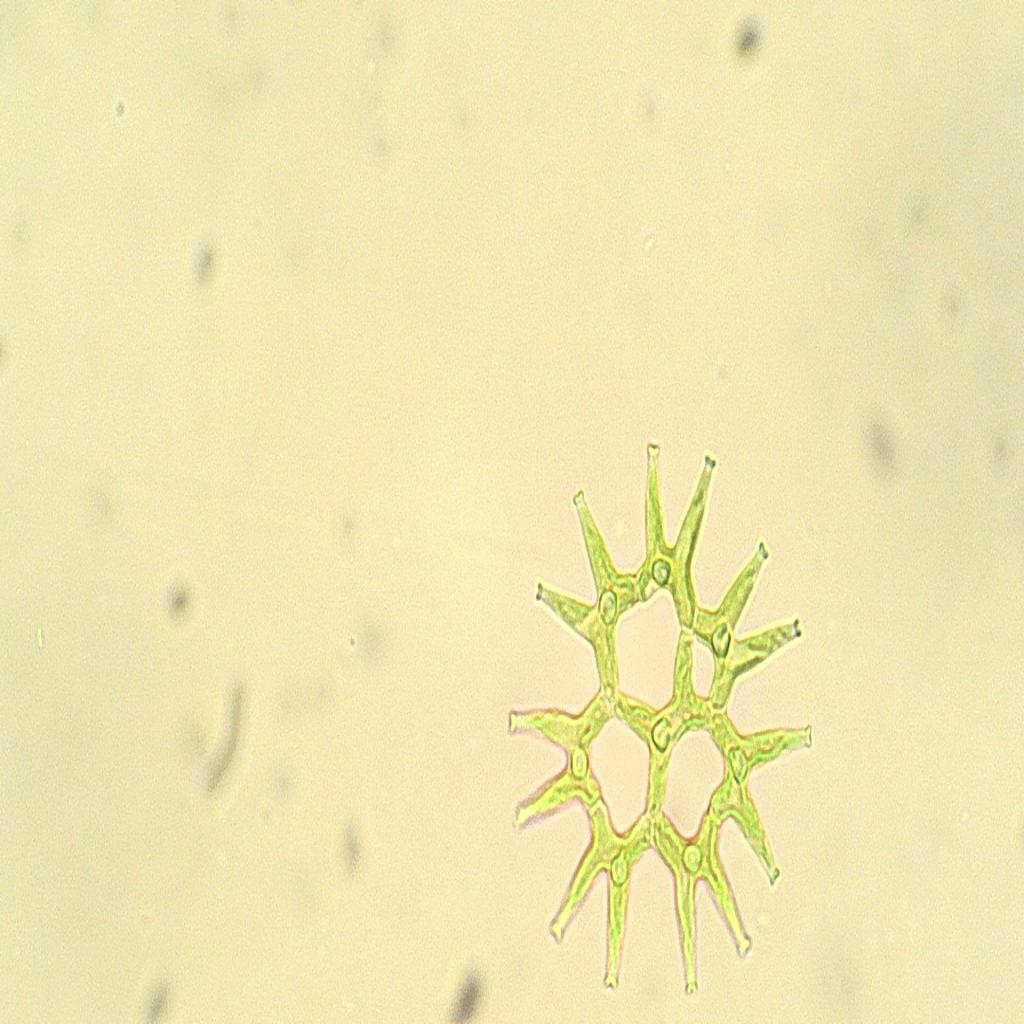Pediastrum_1T: (496, 414, 843, 1018)
